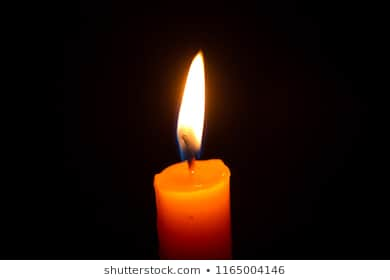Fire: (179, 47, 206, 161)
